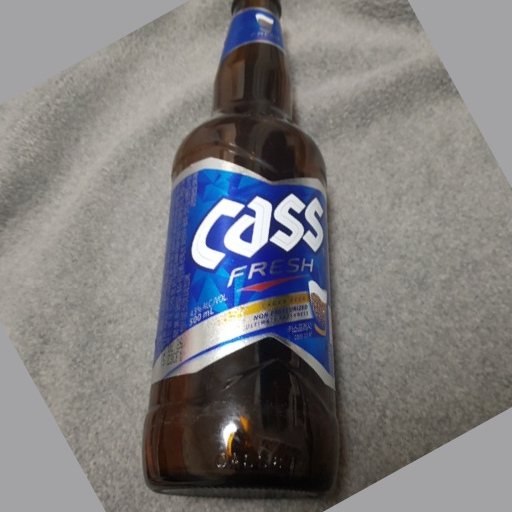Glass_1: (149, 2, 345, 502)
